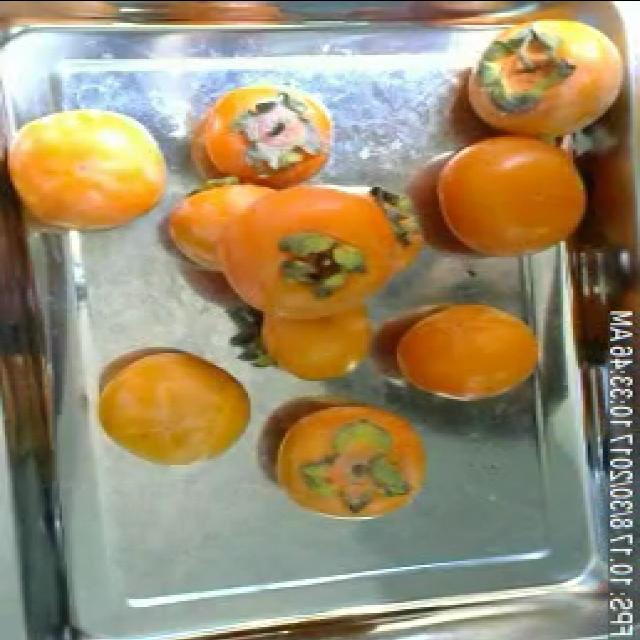Fruit: (67, 328, 273, 482), (0, 86, 191, 248), (254, 392, 442, 530), (357, 290, 548, 416)
